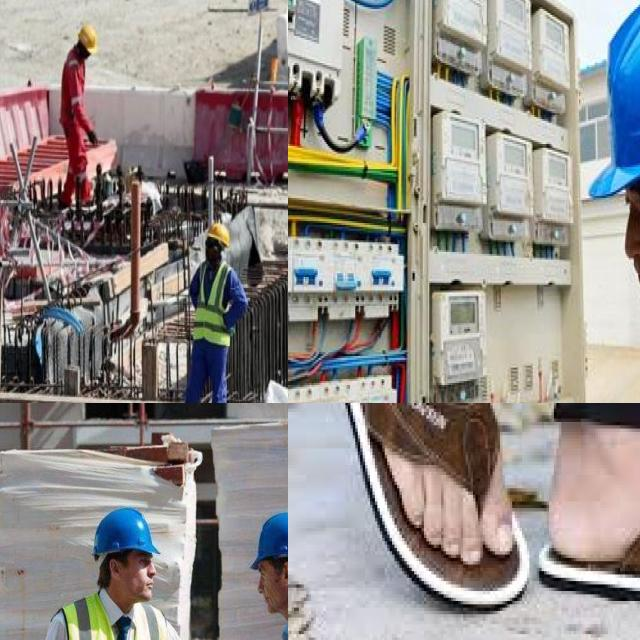No_Glasses: (619, 185, 640, 223)
Sandals: (306, 403, 532, 612), (539, 403, 640, 629)
face_nomask: (257, 561, 288, 620), (125, 552, 158, 607)
hand_glove: (88, 125, 101, 148)
head_helmet: (579, 0, 640, 209), (81, 500, 165, 564), (243, 507, 288, 557), (78, 25, 96, 53), (207, 222, 229, 242)
person: (40, 504, 167, 640), (231, 509, 288, 640), (191, 224, 230, 403), (63, 19, 95, 203)
vest: (60, 589, 164, 640), (194, 267, 230, 336)
